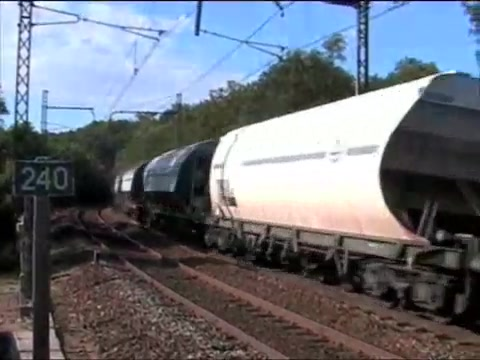train: (112, 73, 480, 324)
